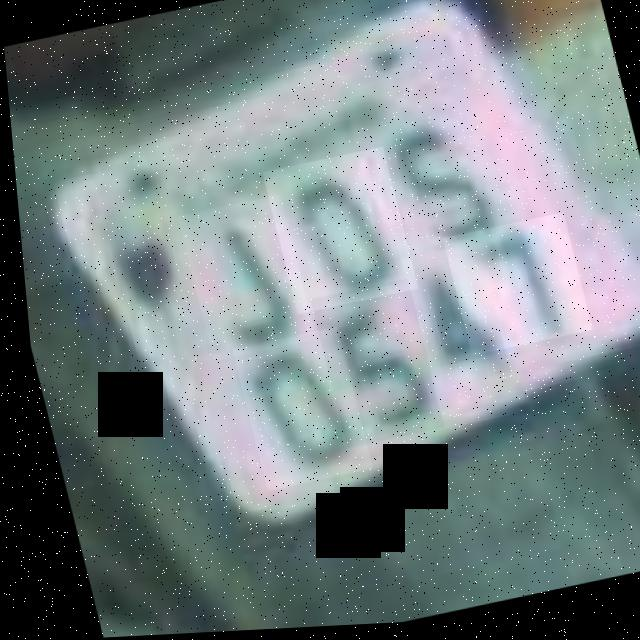0: (225, 329, 365, 494)
4: (373, 245, 509, 406)
5: (303, 281, 438, 452)
7: (437, 217, 587, 361)
J: (173, 196, 311, 364)
O: (258, 150, 414, 318)
